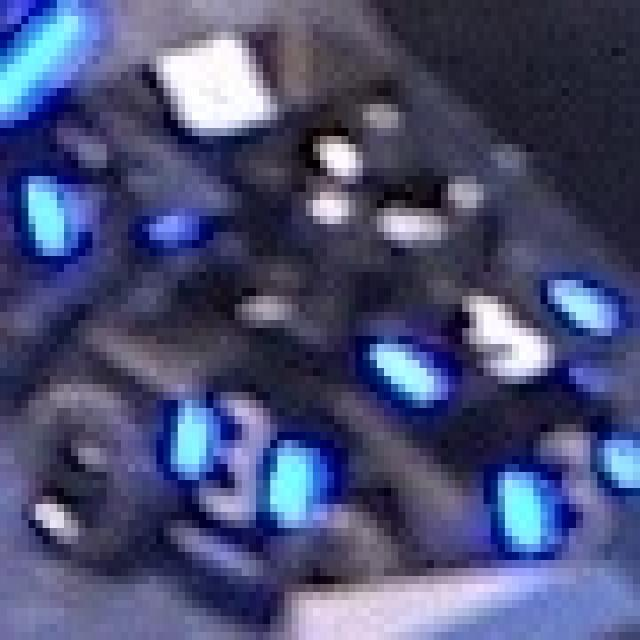B3: (156, 384, 313, 528), (498, 416, 633, 552)
